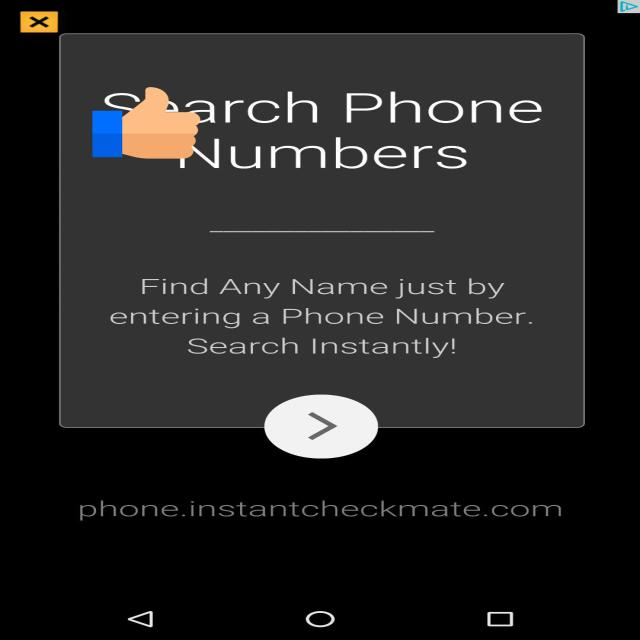privacy zuckering: (92, 86, 200, 160)
